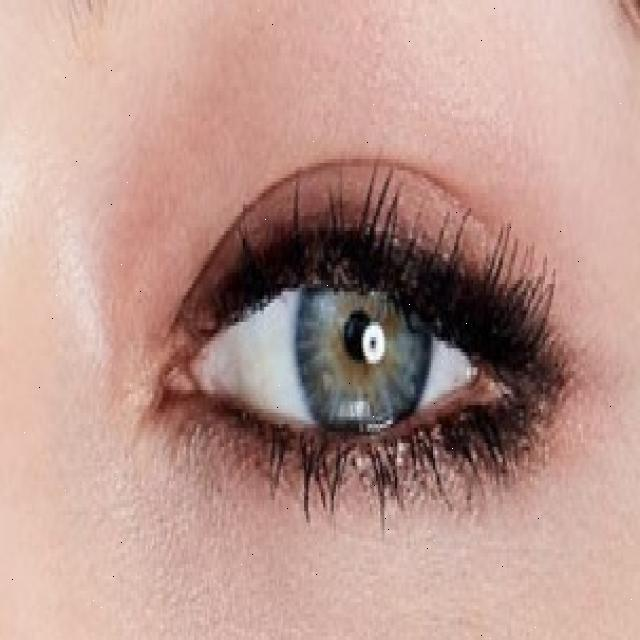Normal: (294, 206, 431, 453)
